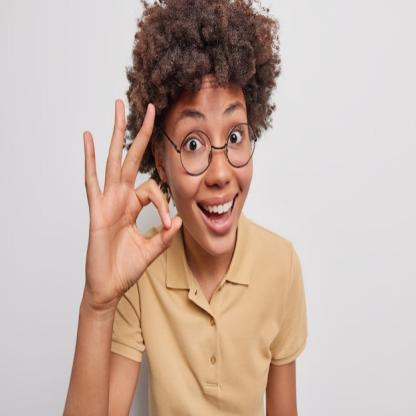ok: (80, 92, 184, 302)
